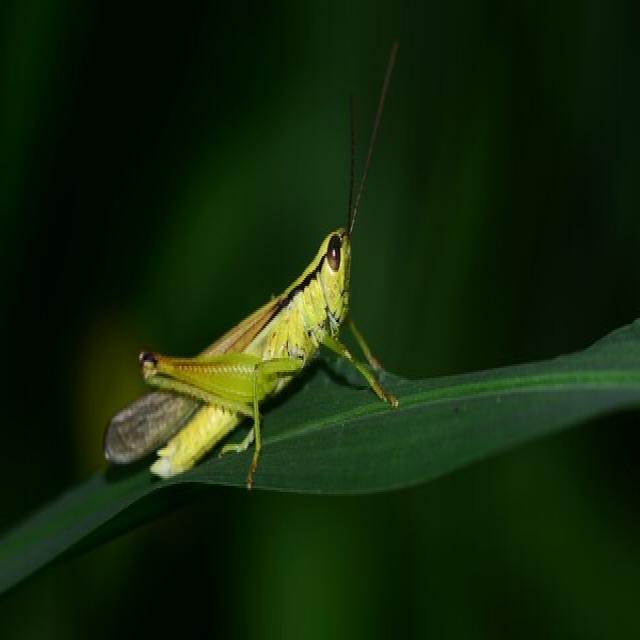ZhaMeng: (96, 209, 393, 496)
